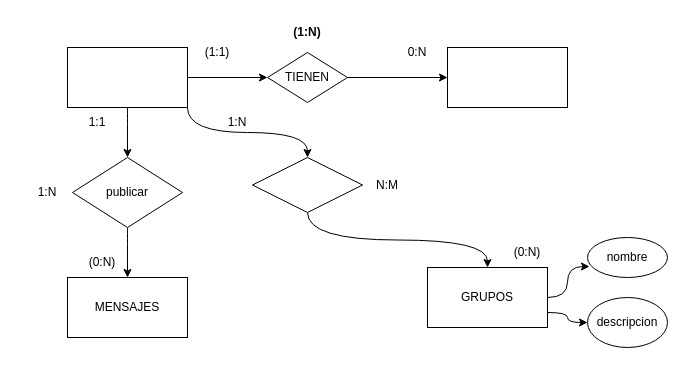
This 685x365 diagram has some shape labels left out. The shapes that lost their labels are listed below. From the top down, each one's centre as x and y in pixels, then its label:
the point at 127,77: USUARIOS
the point at 507,77: AMIGOS
the point at 307,184: unirse
